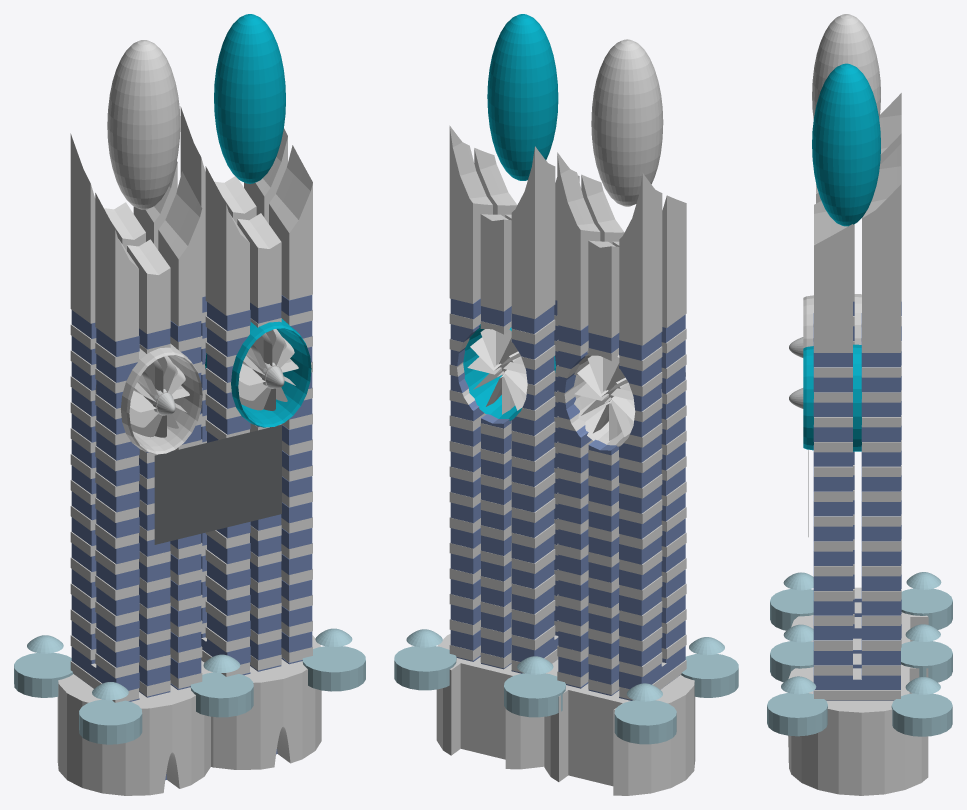
The model's file is Skyscraper ma.glb.
3 views of the same model, side by side, from view 1: azimuth 30°, elevation 25°; view 2: azimuth 150°, elevation 25°; view 3: azimuth 270°, elevation 25° (orthographic). The views are drawn at different scales.
Parts seen in each view (by area): view 1: Mesh_Mesh_head_geo.001_lambert2SG.001; view 2: Mesh_Mesh_head_geo.001_lambert2SG.001; view 3: Mesh_Mesh_head_geo.001_lambert2SG.001.
Part boxes in pixels (x1,y1,x2,y2): Mesh_Mesh_head_geo.001_lambert2SG.001: (14, 14, 365, 795); Mesh_Mesh_head_geo.001_lambert2SG.001: (394, 14, 738, 795); Mesh_Mesh_head_geo.001_lambert2SG.001: (767, 14, 952, 795).
Size of the model in its own units: 83.5 by 208 by 50.19.
